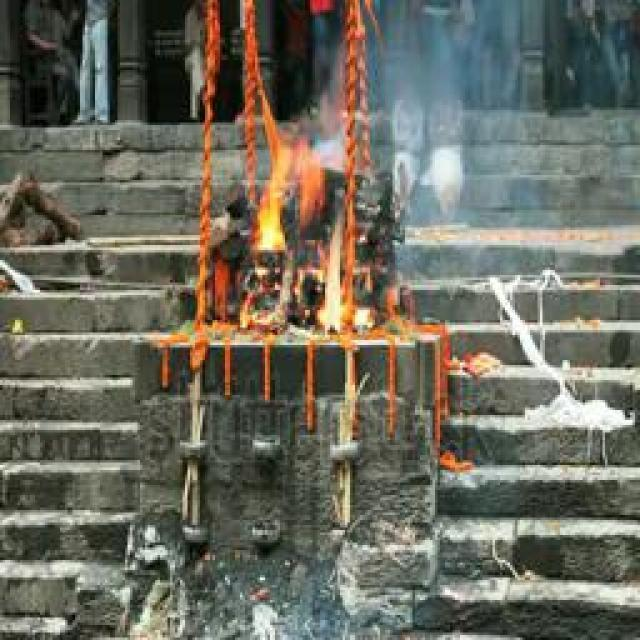Fire: (246, 132, 358, 336)
